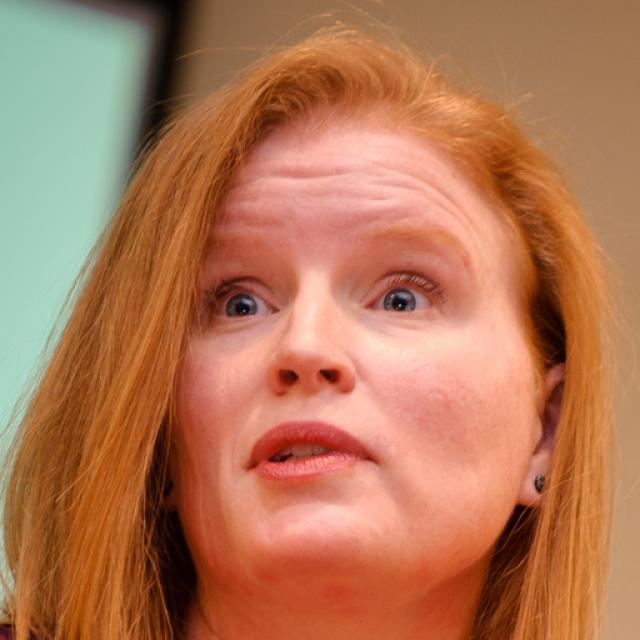surprise: (171, 119, 534, 582)
